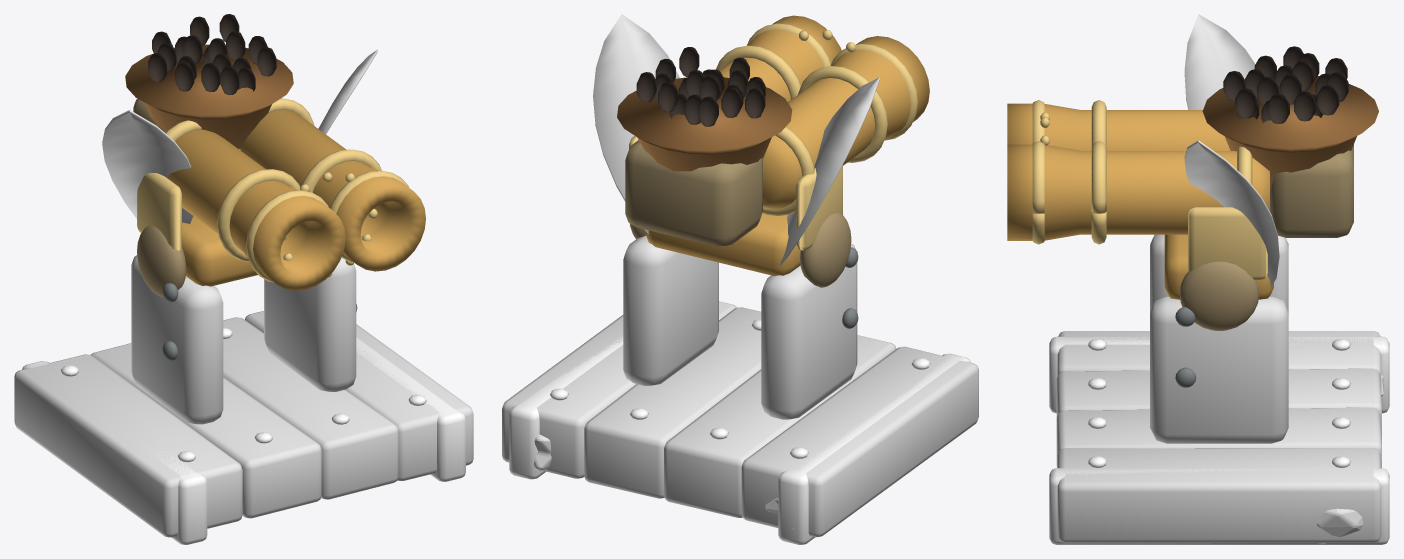
File: seed-3.fbx
The picture shows the model from 3 angles, left to right: view 1: azimuth 30°, elevation 25°; view 2: azimuth 150°, elevation 25°; view 3: azimuth 270°, elevation 25°; orthographic projection. The views are drawn at different scales.
Visible parts, largest first — view 1: Base_Bark, Barrel_Metal, Turret_Bark, Turret_Organic, Turret_Metal, Base_Metal, Petals_Leaf; view 2: Base_Bark, Turret_Bark, Turret_Metal, Barrel_Metal, Turret_Organic, Petals_Leaf, Base_Metal, Base_Stone; view 3: Base_Bark, Barrel_Metal, Turret_Bark, Turret_Metal, Turret_Organic, Petals_Leaf, Base_Metal, Base_Stone.
Boxes of the visible parts, x1,y1,x2,y2 form: Base_Bark: [14, 311, 473, 537]; Barrel_Metal: [165, 98, 425, 290]; Turret_Bark: [131, 255, 356, 424]; Turret_Organic: [125, 14, 293, 149]; Turret_Metal: [133, 99, 377, 360]; Base_Metal: [22, 327, 465, 544]; Petals_Leaf: [102, 49, 377, 223]; Base_Bark: [502, 301, 978, 537]; Turret_Bark: [623, 235, 857, 419]; Turret_Metal: [625, 30, 858, 328]; Barrel_Metal: [716, 15, 929, 215]; Turret_Organic: [617, 47, 792, 171]; Petals_Leaf: [593, 14, 879, 265]; Base_Metal: [509, 319, 970, 544]; Base_Stone: [534, 434, 794, 531]; Base_Bark: [1056, 331, 1381, 543]; Barrel_Metal: [1007, 100, 1269, 244]; Turret_Bark: [1150, 234, 1288, 443]; Turret_Metal: [1040, 112, 1353, 387]; Turret_Organic: [1202, 46, 1378, 190]; Petals_Leaf: [1184, 14, 1279, 286]; Base_Metal: [1049, 336, 1389, 544]; Base_Stone: [1316, 375, 1383, 544].
Size of the model in its own units: 89.81 by 108 by 91.04.
